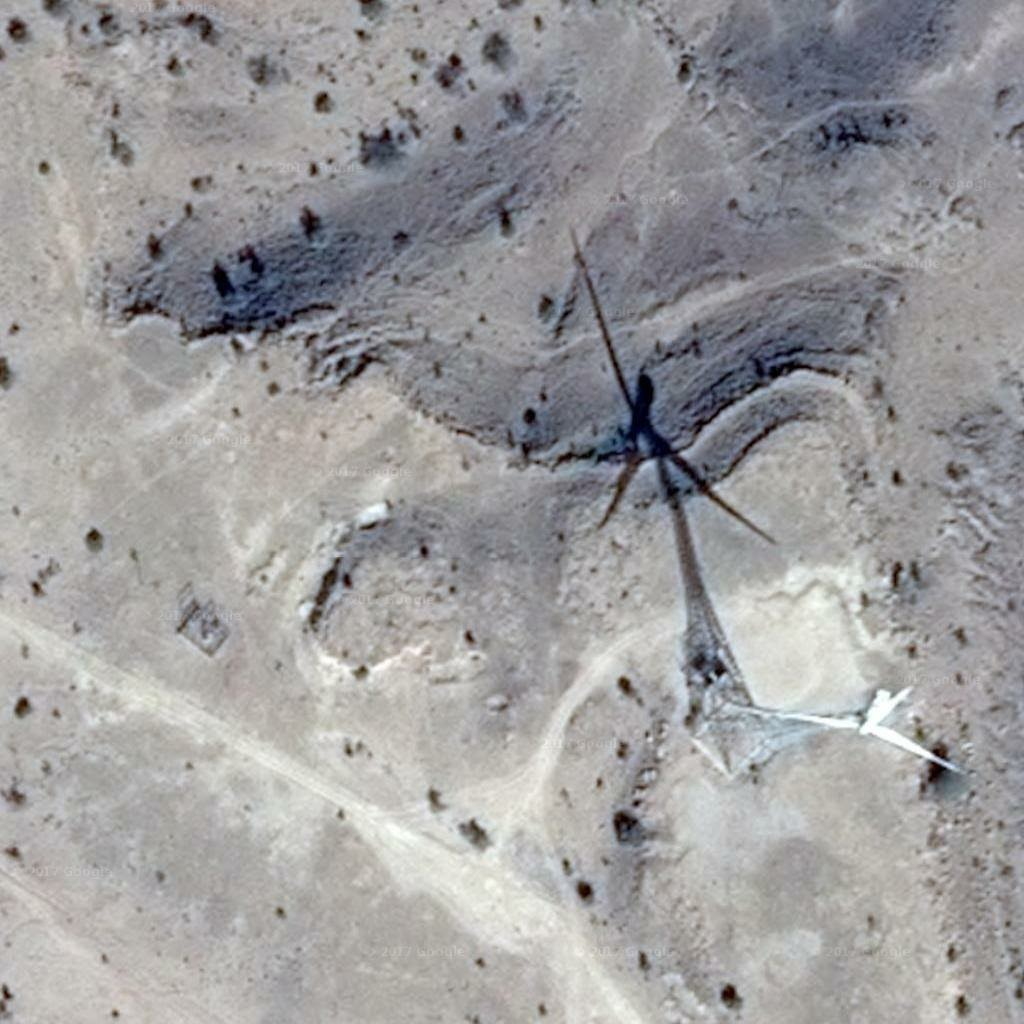Windmill: (560, 226, 777, 682)
